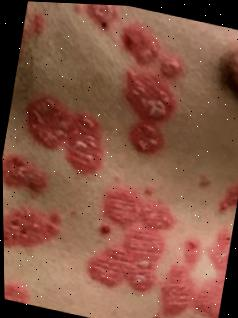plaque psoriasis: (56, 2, 203, 164), (147, 154, 238, 318), (89, 173, 186, 311), (16, 86, 115, 183), (2, 145, 74, 274), (10, 0, 61, 96), (2, 143, 25, 299), (3, 271, 65, 312)
